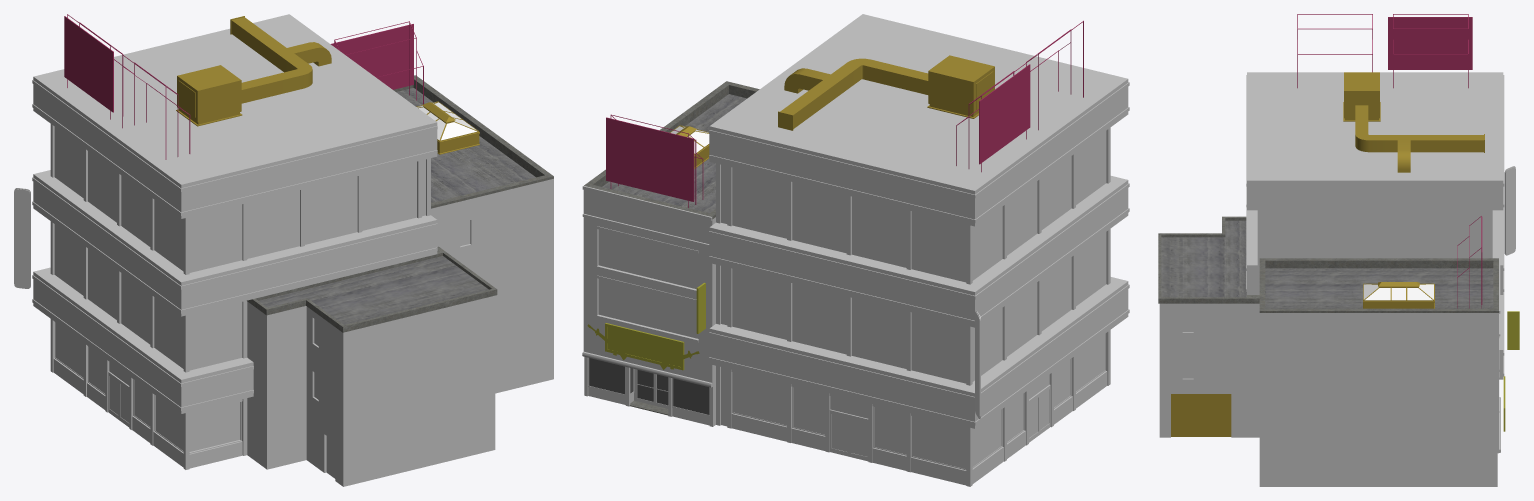
The model's file is mcp_building_21_LOD_1.FBX.
The picture shows the model from 3 angles, left to right: view 1: azimuth 30°, elevation 25°; view 2: azimuth 150°, elevation 25°; view 3: azimuth 270°, elevation 25°; orthographic projection. The views are drawn at different scales.
Parts seen in each view (by area): view 1: mcp_building_21, mcp_building_21_walls, mcp_building_21_concrete, mcp_building_21_roof, mcp_building_21_billboards_01, mcp_building_21_props001, mcp_building_21_props; view 2: mcp_building_21, mcp_building_21_concrete, mcp_building_21_billboards_01, mcp_building_21_walls, mcp_building_21_props001, mcp_building_21_interior_props_01, mcp_building_21_roof, mcp_building_21_glass_windows, mcp_building_21_props, mcp_building_21_door_02; view 3: mcp_building_21_walls, mcp_building_21_concrete, mcp_building_21_roof, mcp_building_21, mcp_building_21_billboards_01, mcp_building_21_props001, mcp_building_21_props, mcp_building_21_interior_props_01.
Boxes of the visible parts, x1,y1,x2,y2 form: mcp_building_21: (14, 77, 470, 469); mcp_building_21_walls: (247, 178, 553, 486); mcp_building_21_concrete: (33, 14, 553, 379); mcp_building_21_roof: (259, 88, 535, 324); mcp_building_21_billboards_01: (64, 14, 423, 159); mcp_building_21_props001: (176, 16, 331, 126); mcp_building_21_props: (416, 101, 479, 154); mcp_building_21: (582, 79, 1129, 486); mcp_building_21_concrete: (582, 14, 1127, 415); mcp_building_21_billboards_01: (606, 20, 1083, 207); mcp_building_21_walls: (583, 190, 715, 386); mcp_building_21_props001: (778, 55, 994, 130); mcp_building_21_interior_props_01: (587, 282, 705, 370); mcp_building_21_roof: (602, 94, 746, 213); mcp_building_21_glass_windows: (589, 358, 709, 414); mcp_building_21_props: (670, 125, 709, 168); mcp_building_21_door_02: (635, 369, 654, 405); mcp_building_21_walls: (1159, 210, 1498, 486); mcp_building_21_concrete: (1158, 72, 1503, 412); mcp_building_21_roof: (1161, 220, 1493, 308); mcp_building_21: (1182, 75, 1515, 486); mcp_building_21_billboards_01: (1297, 14, 1482, 308); mcp_building_21_props001: (1343, 72, 1484, 172); mcp_building_21_props: (1171, 282, 1434, 436); mcp_building_21_interior_props_01: (1503, 311, 1519, 431).
Size of the model in its own units: 3065 by 2735 by 2818.
